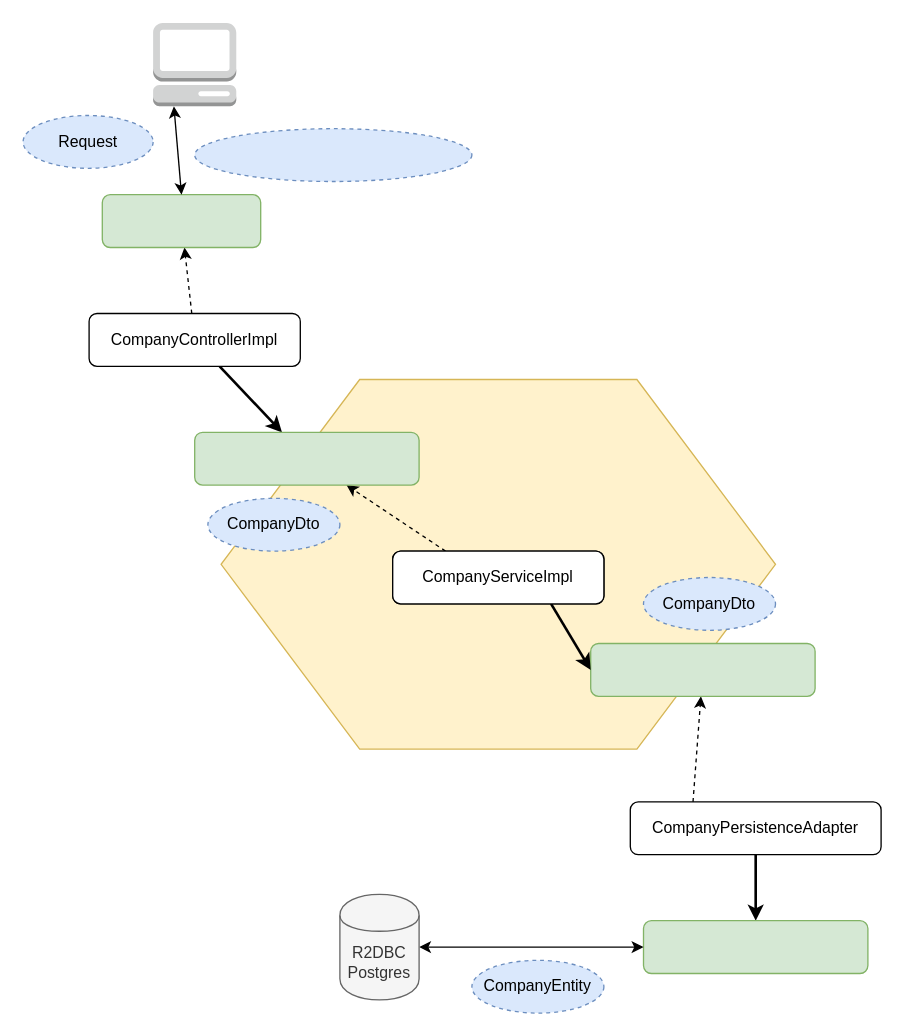
The diagram is 904 pixels wide and 1036 high, and some of its shapes have lost their labels. The shapes that lost their labels are listed below. From the top down, each one's box as (x1, y1, x2, y2) in pixels, then its label:
(193, 127, 472, 182): CompanyControllerResponseDto
(101, 193, 261, 248): CompanyController
(193, 431, 419, 485): CompanyService
(589, 642, 815, 696): CompanyPersistencePort
(642, 919, 868, 974): CompanyRepository
